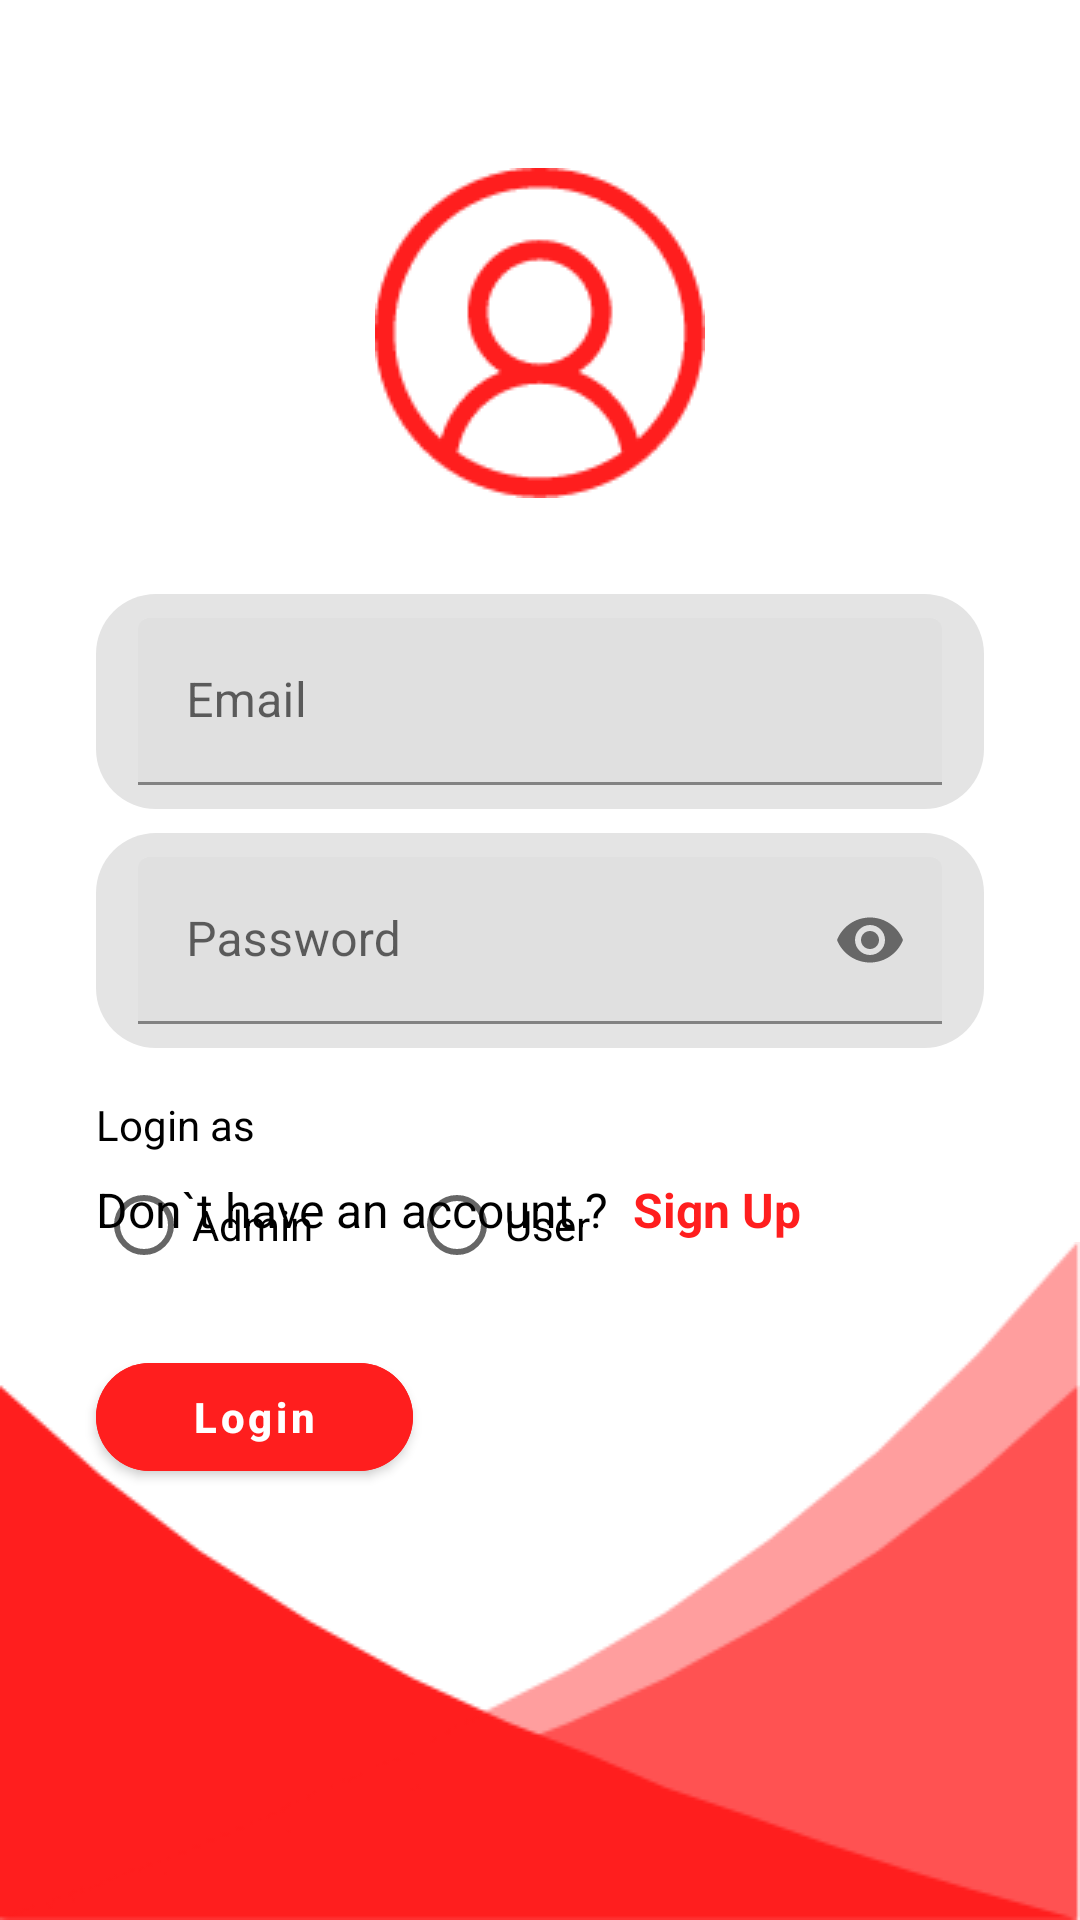

Where to tap for icons on this 1080 x 1920 app screen, as [x,y]:
user: [540,333]
